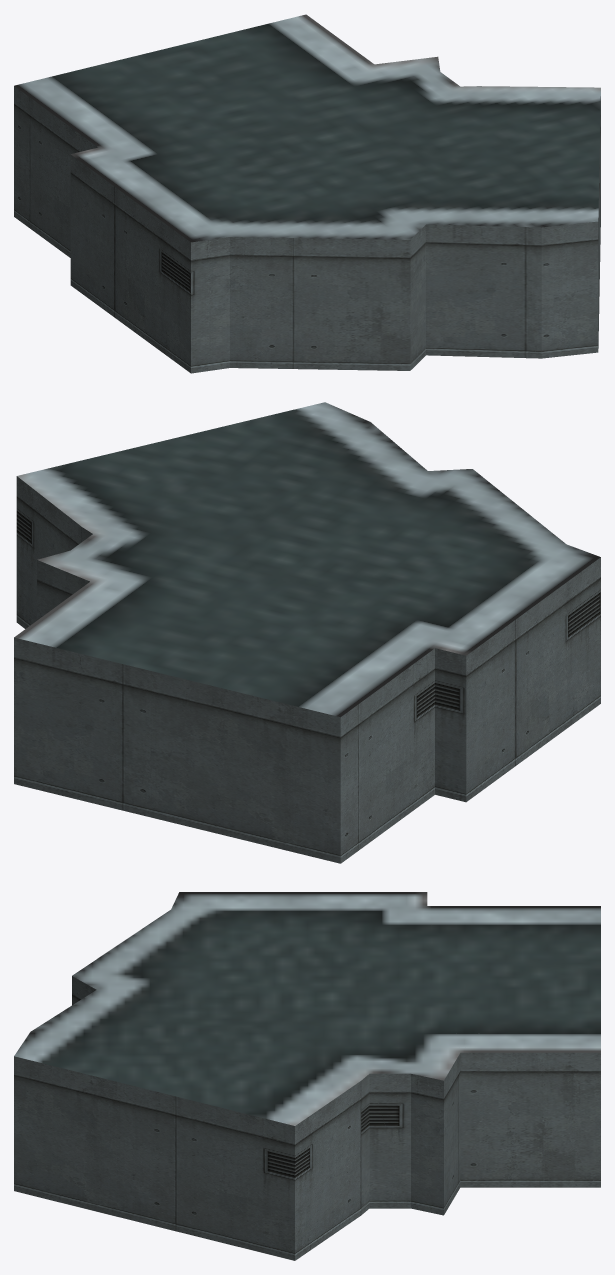
Rendered from medium_roof05.glb.
3 views of the same model, one above another, from view 1: azimuth 30°, elevation 25°; view 2: azimuth 150°, elevation 25°; view 3: azimuth 270°, elevation 25° (orthographic). The views are drawn at different scales.
Visible parts, largest first — view 1: buildings/saxarba/medium/medium_roof05; view 2: buildings/saxarba/medium/medium_roof05; view 3: buildings/saxarba/medium/medium_roof05.
Boxes of the visible parts, box(x1,y1,x2,y2) form: buildings/saxarba/medium/medium_roof05: box(14, 14, 600, 373); buildings/saxarba/medium/medium_roof05: box(14, 402, 600, 863); buildings/saxarba/medium/medium_roof05: box(14, 892, 600, 1260).
Size of the model in its own units: 67 by 18 by 71.
